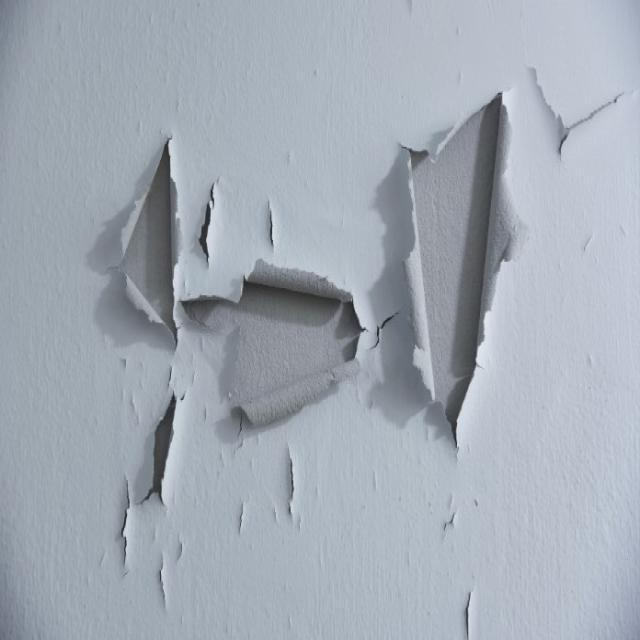Paint peeling: (105, 76, 545, 466), (127, 395, 195, 539)
